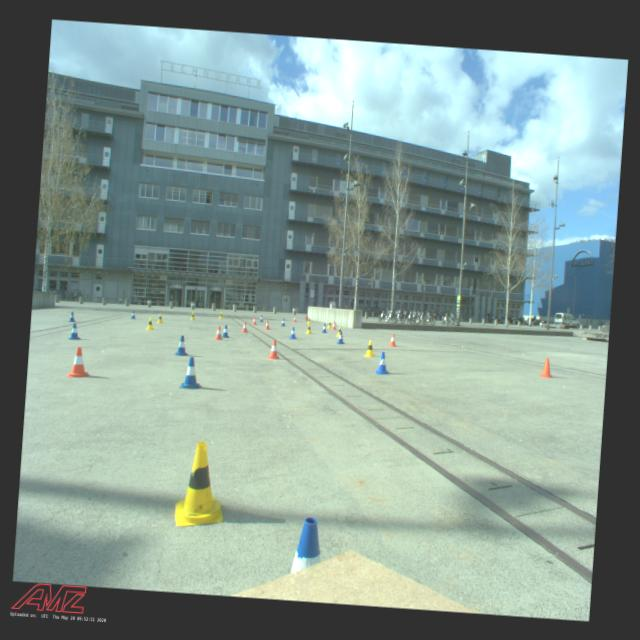blue_cone: (178, 355, 204, 389), (374, 351, 390, 375), (173, 334, 190, 356), (68, 322, 81, 340), (336, 330, 346, 344), (288, 326, 298, 339), (221, 324, 230, 338), (68, 310, 76, 322), (320, 323, 328, 333), (130, 310, 136, 319), (280, 318, 286, 326), (259, 314, 263, 322)
orange_cone: (68, 346, 90, 378), (539, 357, 555, 378), (268, 339, 280, 359), (388, 332, 398, 347), (214, 326, 223, 340), (240, 321, 248, 332), (264, 320, 270, 330), (252, 316, 258, 325), (331, 322, 336, 329), (292, 314, 296, 322)
yellow_cone: (174, 438, 229, 530), (363, 339, 375, 357), (146, 316, 154, 329), (305, 322, 313, 333), (156, 314, 163, 324), (336, 326, 341, 336), (190, 312, 196, 320), (326, 320, 332, 328), (306, 316, 310, 323), (218, 312, 222, 318)
